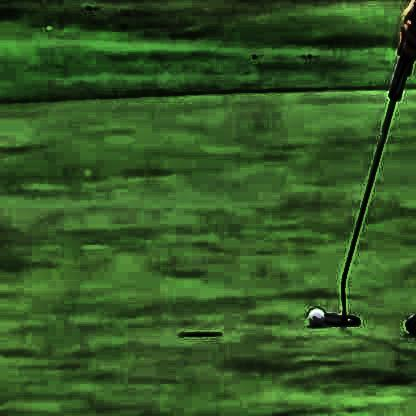golfball: (305, 304, 323, 323)
